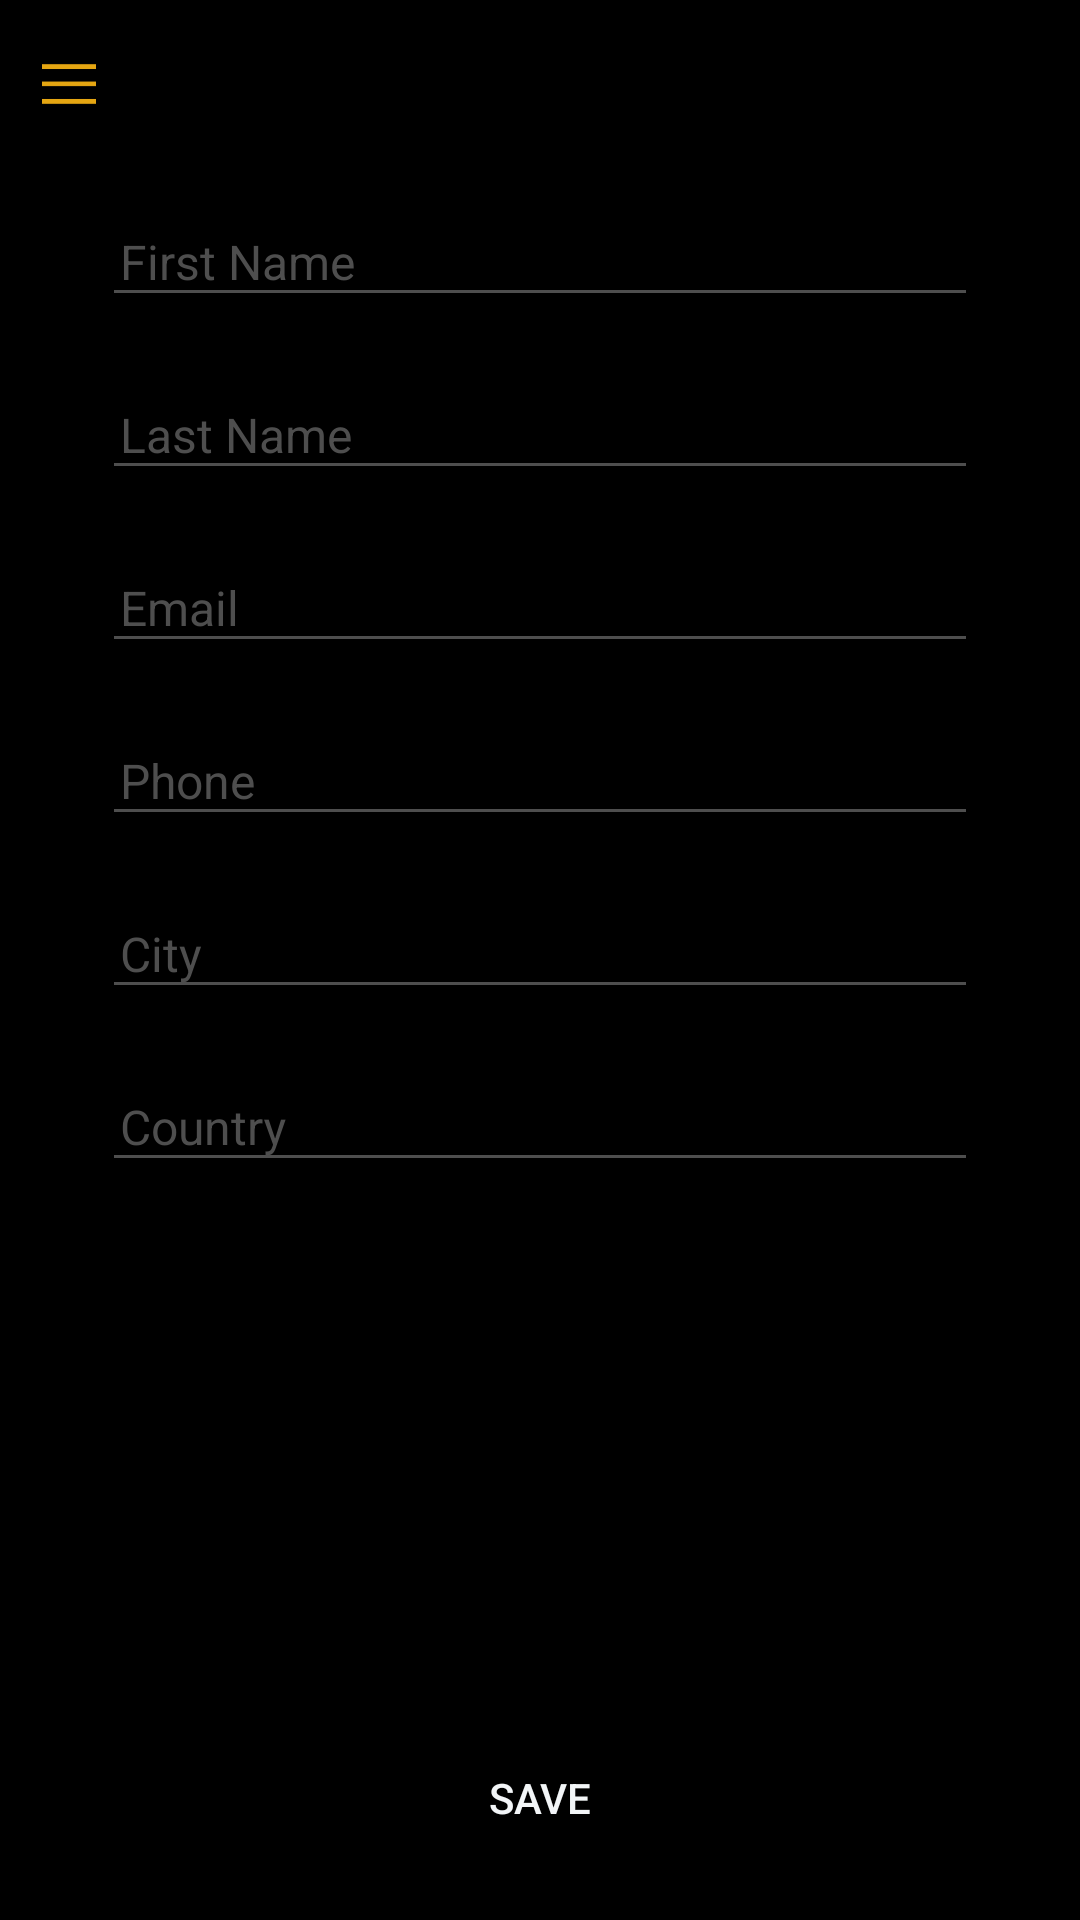

Locate icon controls on the screen. Image size 1080×1920, boxes as (x1, y1, x2, y2).
menu: (42, 64, 96, 104)
